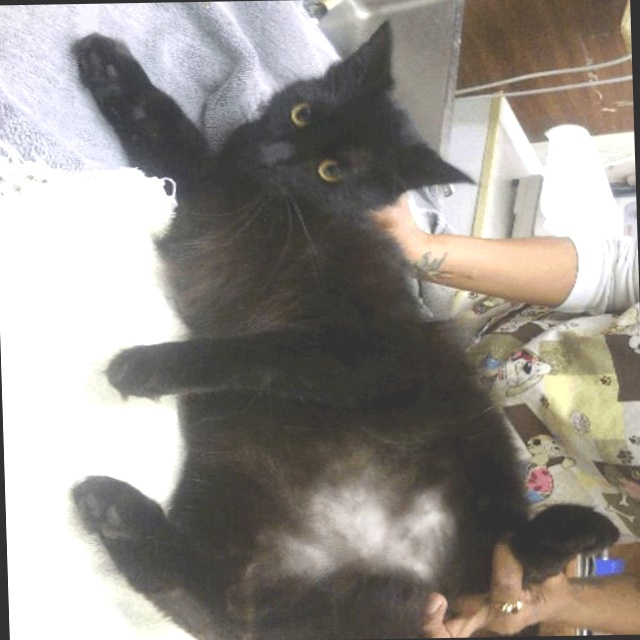hairloss: (277, 483, 450, 583)
